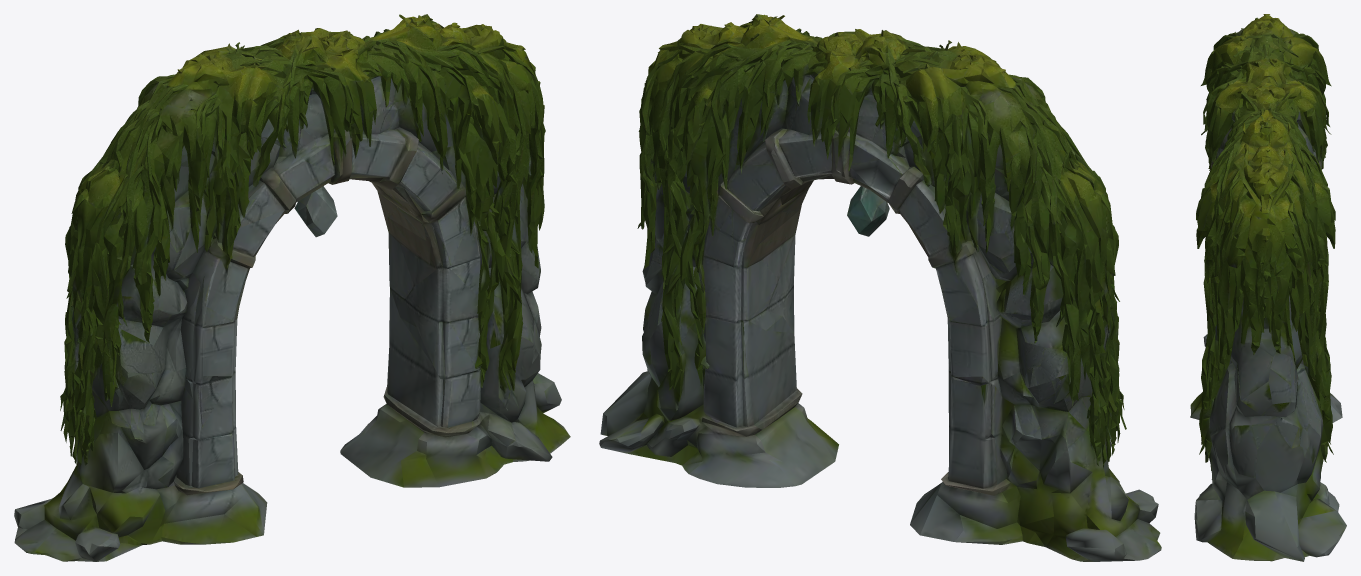
Rendered from arch_s.glb.
3 views of the same model, side by side, from view 1: azimuth 30°, elevation 25°; view 2: azimuth 150°, elevation 25°; view 3: azimuth 270°, elevation 25° (orthographic). The views are drawn at different scales.
Bounding box in the file's own units: 1.88 × 1.5 × 0.5429.
Materials: 1 (1 with a texture image).
